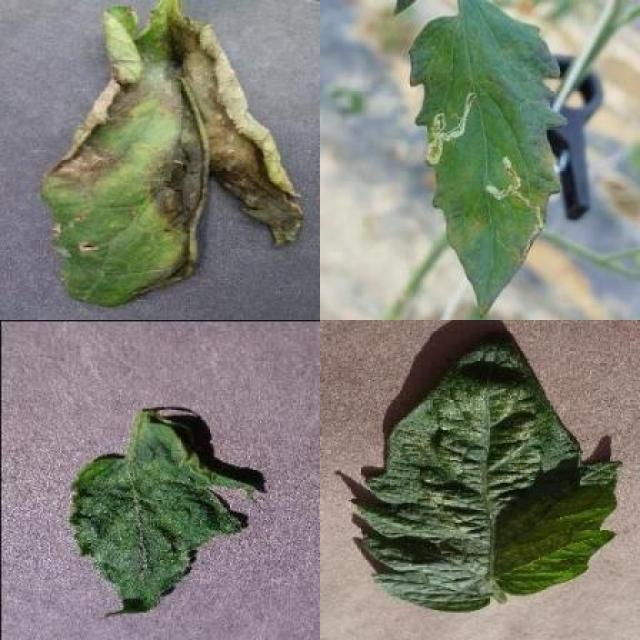Late Blight: (44, 7, 306, 312)
Leaf Miner: (409, 0, 570, 319)
Mosaic Virus: (66, 419, 256, 620)
Spider Mites: (349, 338, 625, 612)
